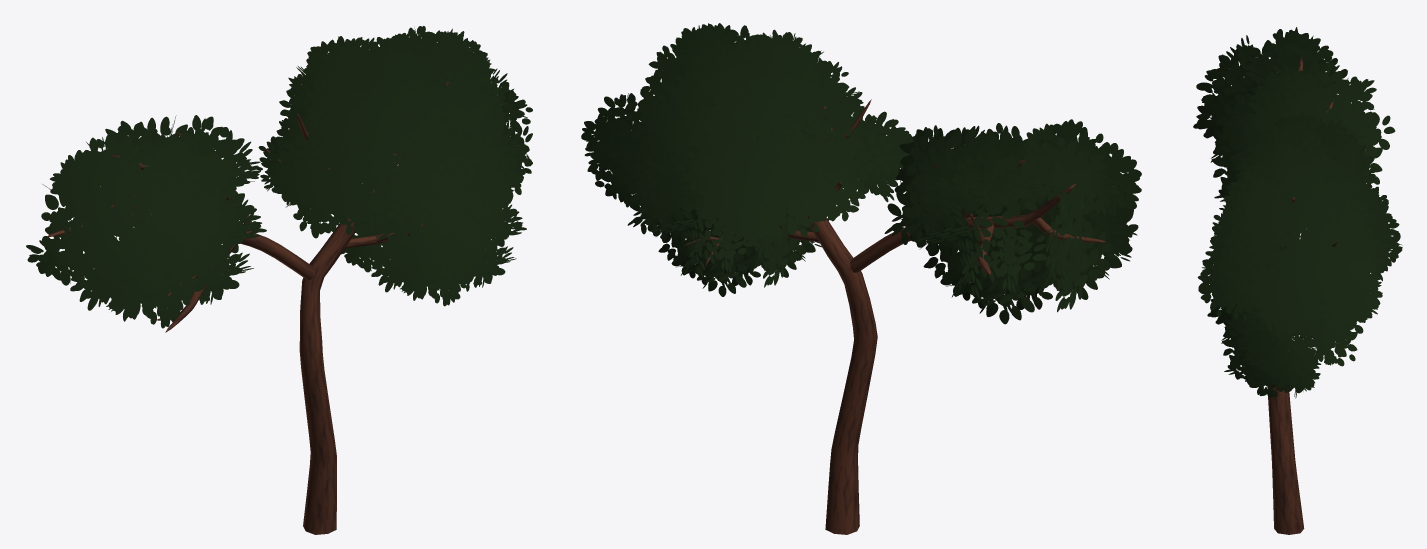
The model's file is normal_tree_4.glb.
The picture shows the model from 3 angles, left to right: view 1: azimuth 30°, elevation 25°; view 2: azimuth 150°, elevation 25°; view 3: azimuth 270°, elevation 25°; orthographic projection. The views are drawn at different scales.
Visible parts, largest first — view 1: NormalTree_42; view 2: NormalTree_42; view 3: NormalTree_42.
Boxes of the visible parts, <box> form: NormalTree_42: <box>26,26,532,534</box>; NormalTree_42: <box>581,23,1141,534</box>; NormalTree_42: <box>1193,27,1402,534</box>.
Size of the model in its own units: 5.67 by 5.1 by 2.4.
Materials: 2 (2 with a texture image).
